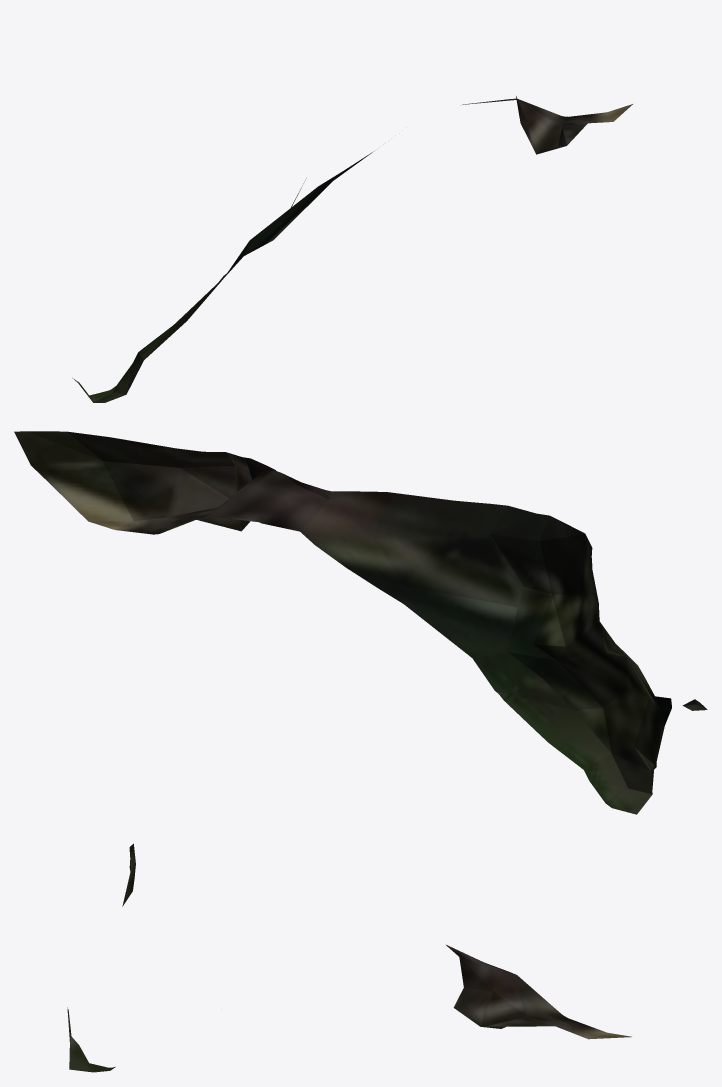
3 renders of one model, top to bottom at view 1: azimuth 30°, elevation 25°; view 2: azimuth 150°, elevation 25°; view 3: azimuth 330°, elevation 25°, orthographic.
Bounding box in the file's own units: 1.37 × 0.4432 × 0.1644.
Materials: 1 (1 with a texture image).
